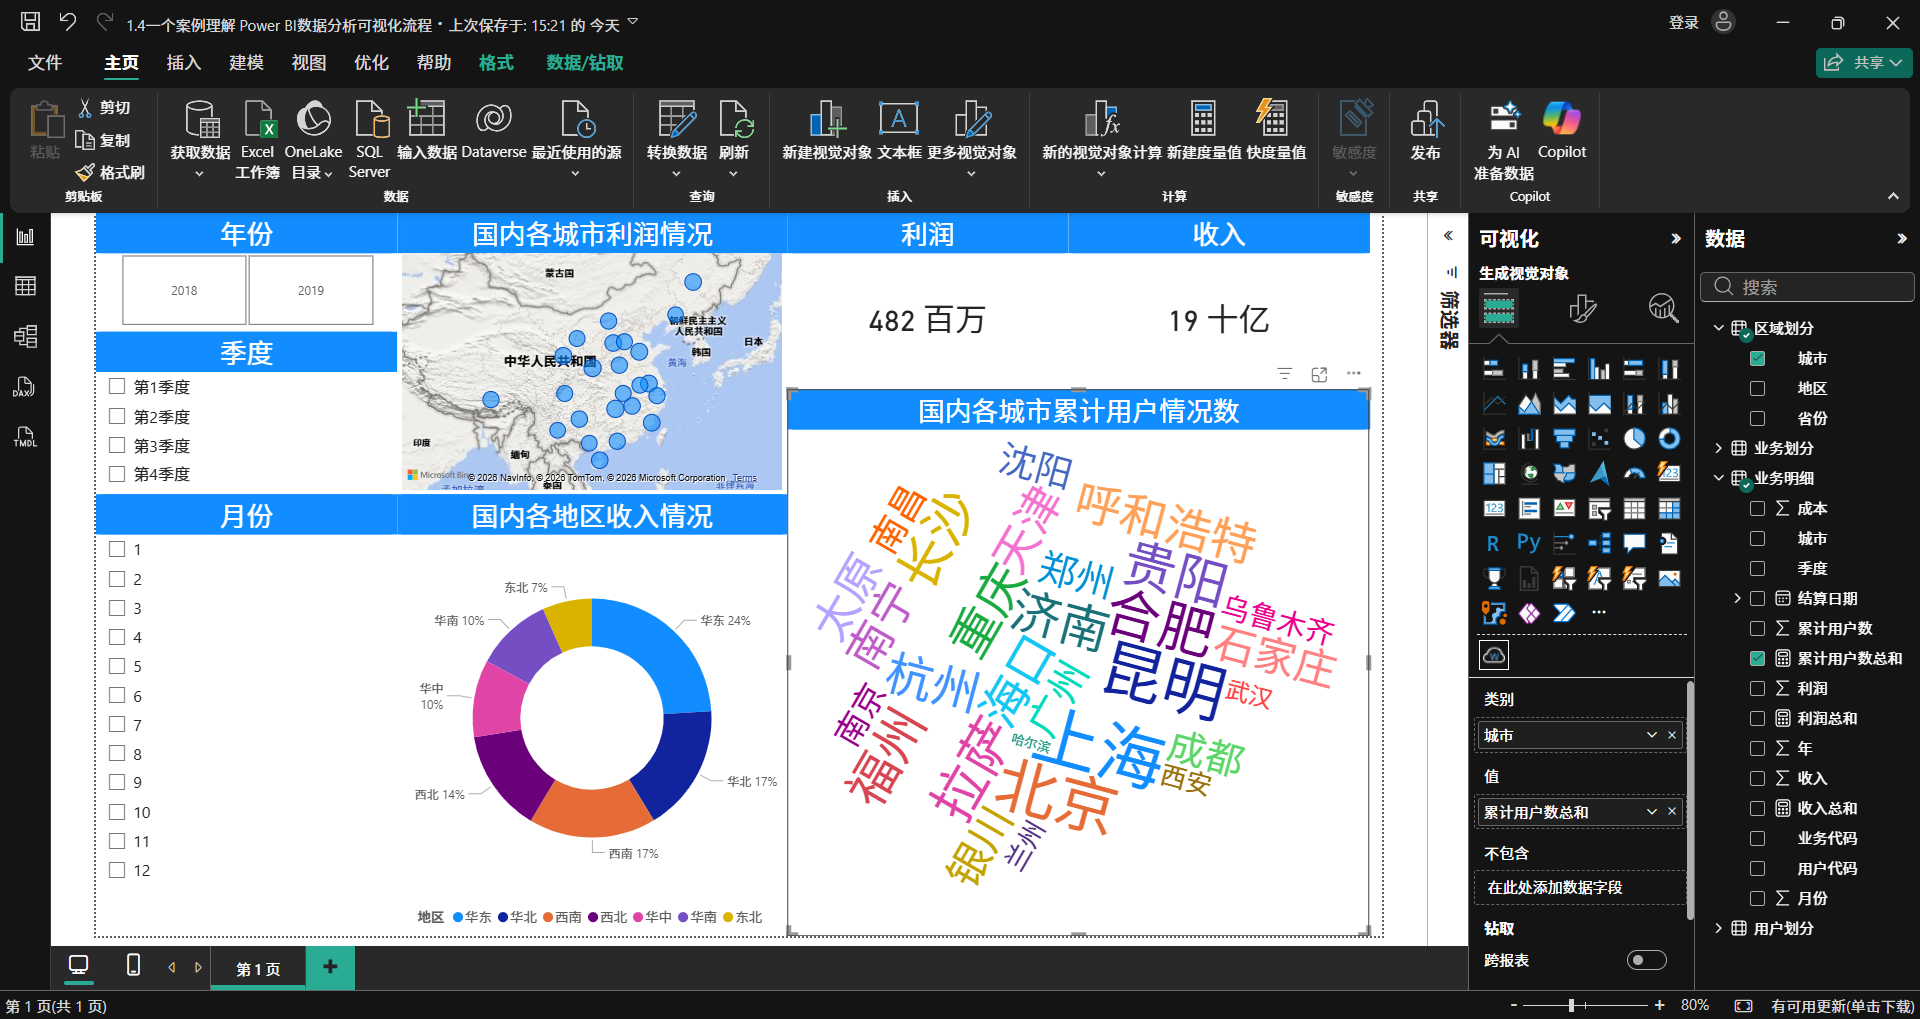

The page's visual inventory and layout, read from the dashboard file:
{"tool":"powerbi","page":{"name":"第 1 页","canvas":[1280,720],"ordinal":0},"visuals":[{"type":"card","title":"利润","fields":{"Values":["业务明细.利润总和"]},"box":[687.9,0,279.9,175.4],"z":0},{"type":"card","title":"收入","fields":{"Values":["Sum(业务明细.收入)"]},"box":[967.8,0,299.8,175.4],"z":1},{"type":"slicer","title":"年份","fields":{"Values":["业务明细.年"]},"box":[0,0,299.8,118.2],"z":2},{"type":"slicer","title":"季度","fields":{"Values":["业务明细.季度"]},"box":[0,118.2,299.8,161.7],"z":3},{"type":"slicer","title":"月份","fields":{"Values":["业务明细.月份"]},"box":[0,279.9,299.8,440.4],"z":4},{"type":"map","title":"国内各城市利润情况","fields":{"Category":["区域划分.城市"],"Size":["业务明细.利润总和"]},"box":[299.8,0,388.1,279.9],"z":5},{"type":"donutChart","title":"国内各地区收入情况","fields":{"Y":["Sum(业务明细.收入)"],"Category":["区域划分.地区"]},"box":[300,280,388,440],"z":6},{"type":"WordCloud1447959067750","title":"国内各城市累计用户情况数","fields":{"Category":["区域划分.城市"],"Values":["业务明细.累计用户数总和"]},"box":[687.9,175.4,579.7,544.9],"z":7}]}

Visuals, with their boxes on the page's 1280x720 design canvas (x1, y1, x2, y2). These are canvas units, not pixel positions in the 1920x1019 screenshot, which may show the page scaled, cropped or inside an application window:
"利润" card: (688,0,968,175)
"收入" card: (968,0,1268,175)
"年份" slicer: (0,0,300,118)
"季度" slicer: (0,118,300,280)
"月份" slicer: (0,280,300,720)
"国内各城市利润情况" map: (300,0,688,280)
"国内各地区收入情况" donutChart: (300,280,688,720)
"国内各城市累计用户情况数" WordCloud1447959067750: (688,175,1268,720)
